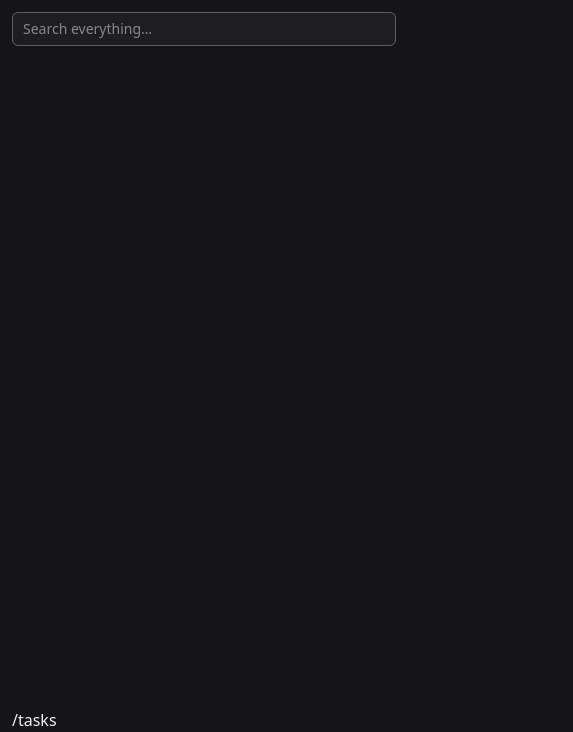
Test: GlobalSearch › says when nothing matches, when it is still looking, and when it fails
Type "zzz" into the search field at x=204, y=29, box [12,12,396,46]
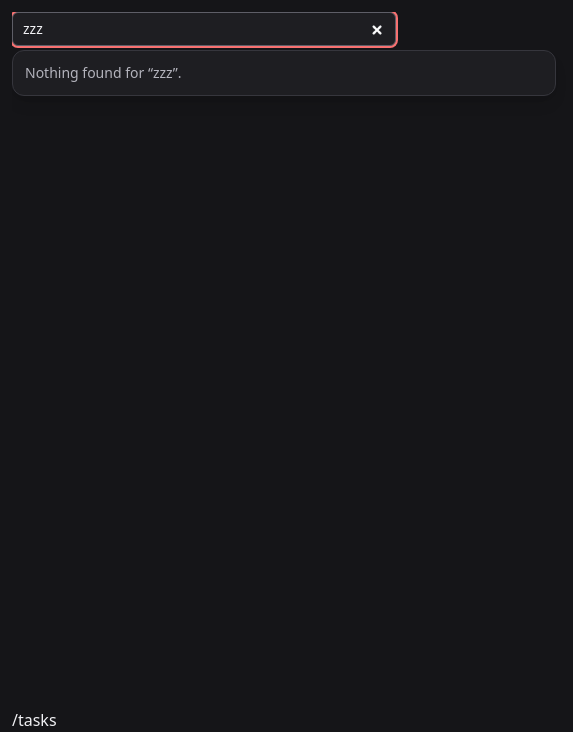
Expected: the text "Nothing found for “zzz”." is shown, [25,63,181,82]
Type "z" into the search field at x=204, y=29, box [12,12,396,46]
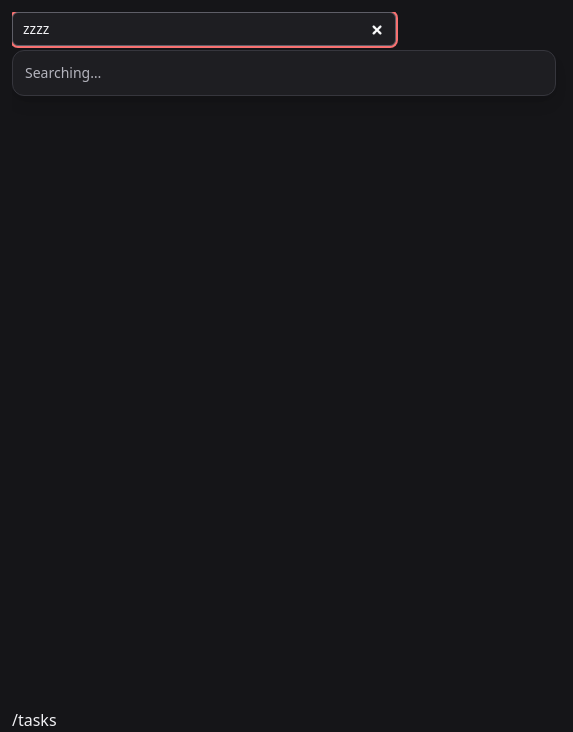
Expected: the text "Searching…" is shown, [25,63,101,82]
Type "z" into the search field at x=204, y=29, box [12,12,396,46]
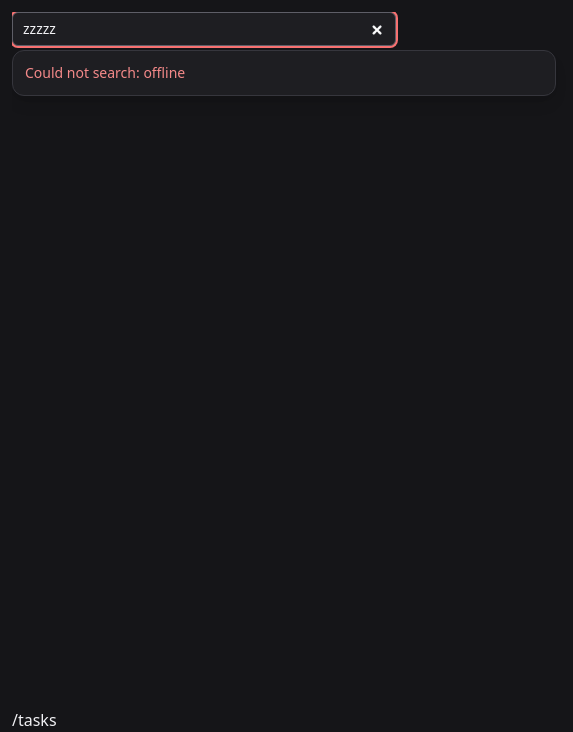
Expected: the message reads "Could not search: offline", [25,63,185,82]
